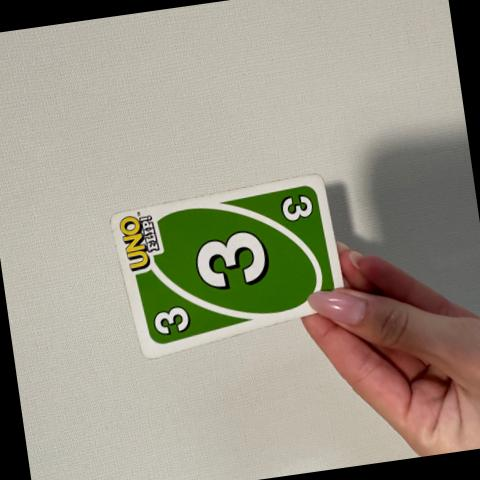lgreen-3: (140, 289, 202, 347)
